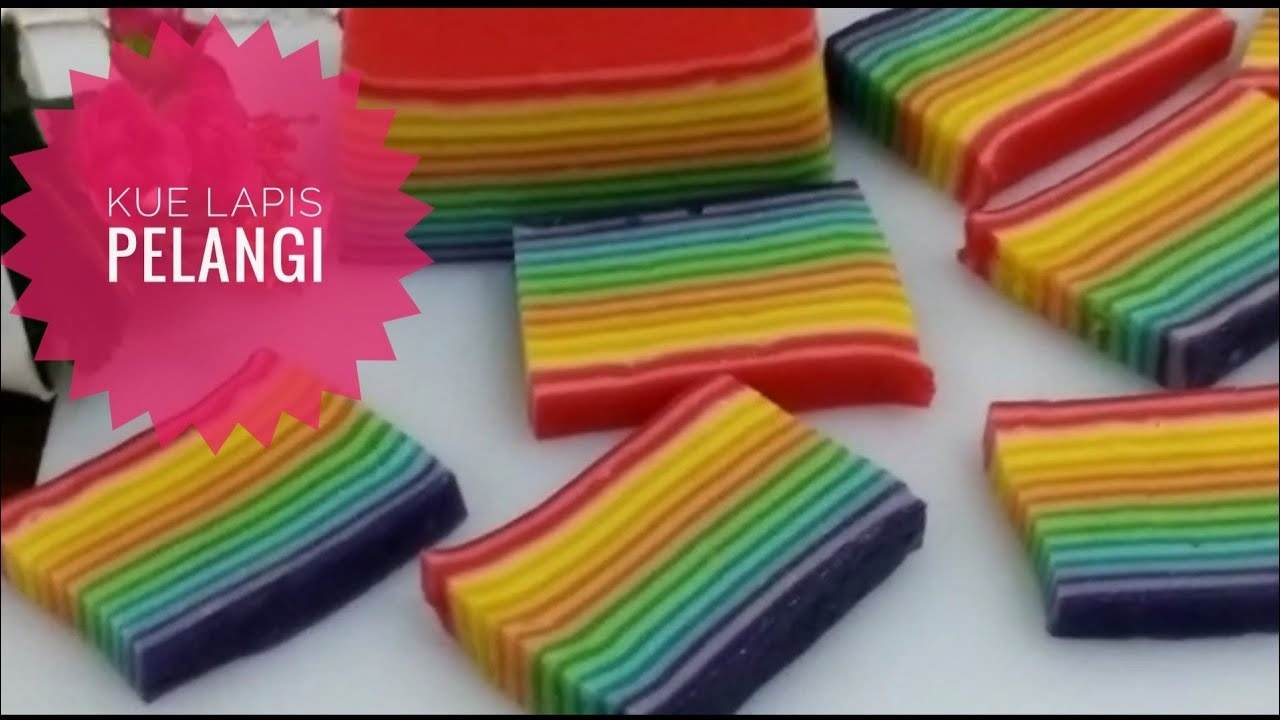kue_lapis_pelangi: (421, 375, 927, 720), (0, 350, 473, 708), (511, 177, 931, 442)
